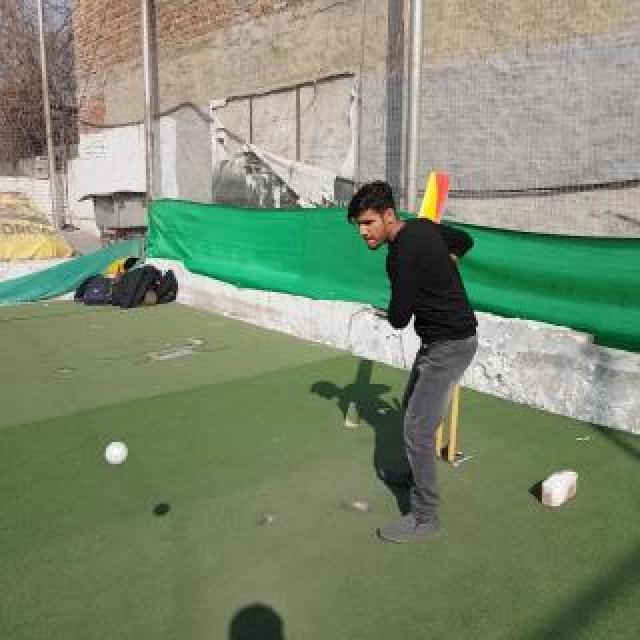bat: (104, 440, 130, 466)
